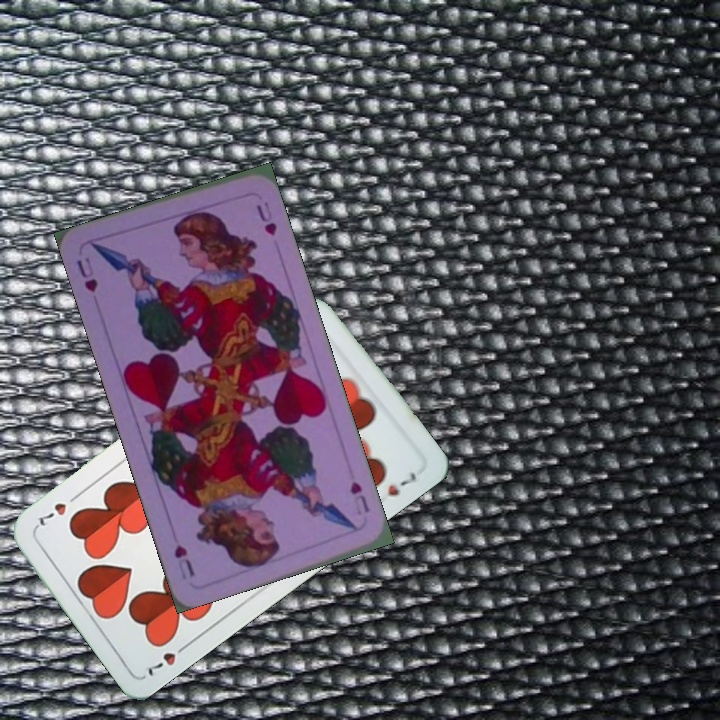H7: (143, 638, 193, 679)
HU: (72, 253, 101, 295), (345, 477, 373, 519)
